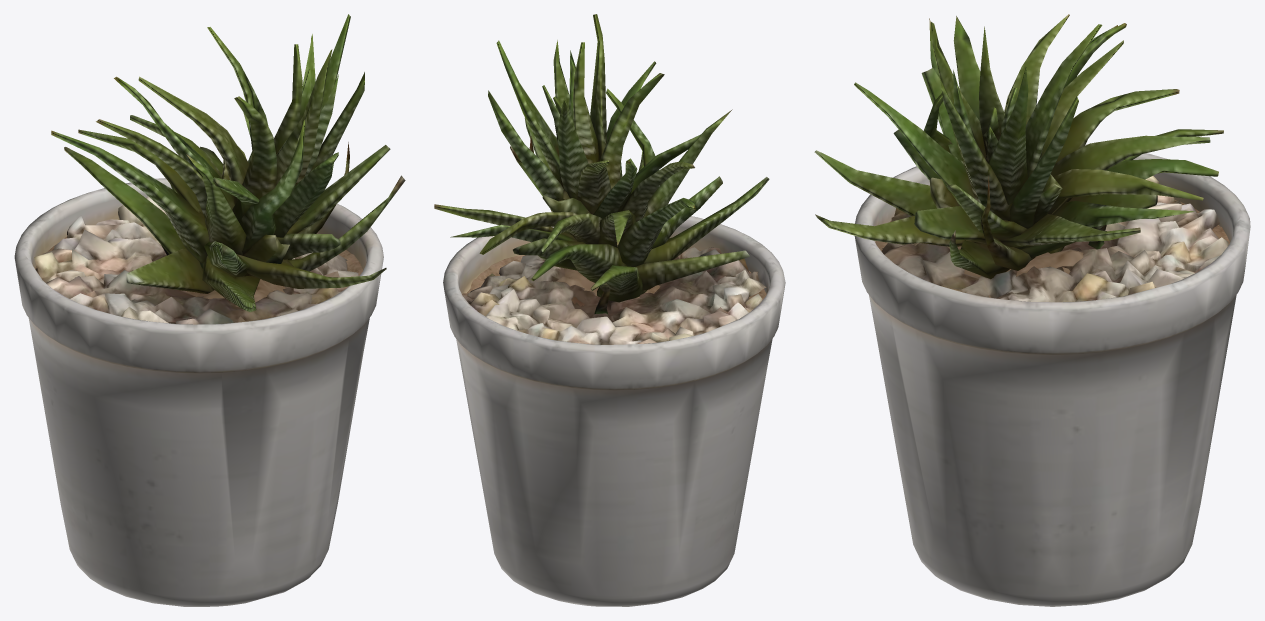
File: potted_plant_04.glb
The picture shows the model from 3 angles, left to right: view 1: azimuth 30°, elevation 25°; view 2: azimuth 150°, elevation 25°; view 3: azimuth 270°, elevation 25°; orthographic projection. The views are drawn at different scales.
Parts seen in each view (by area): view 1: potted_plant_04_pot, potted_plant_04_plant, potted_plant_04_ground, potted_plant_04_dirt; view 2: potted_plant_04_pot, potted_plant_04_plant, potted_plant_04_ground, potted_plant_04_dirt; view 3: potted_plant_04_pot, potted_plant_04_plant, potted_plant_04_ground, potted_plant_04_dirt.
Part boxes in pixels (box(x1,y1,x2,y2)): potted_plant_04_pot: box(14, 178, 383, 606); potted_plant_04_plant: box(51, 14, 405, 311); potted_plant_04_ground: box(34, 196, 358, 324); potted_plant_04_dirt: box(35, 237, 362, 306); potted_plant_04_pot: box(443, 216, 785, 606); potted_plant_04_plant: box(434, 14, 769, 314); potted_plant_04_ground: box(462, 247, 766, 344); potted_plant_04_dirt: box(462, 247, 766, 306); potted_plant_04_pot: box(854, 144, 1250, 606); potted_plant_04_plant: box(814, 14, 1223, 279); potted_plant_04_ground: box(881, 176, 1228, 302); potted_plant_04_dirt: box(875, 199, 1229, 297).
Size of the model in its own units: 0.1676 by 0.2671 by 0.184.
1 material, 1 textured.
